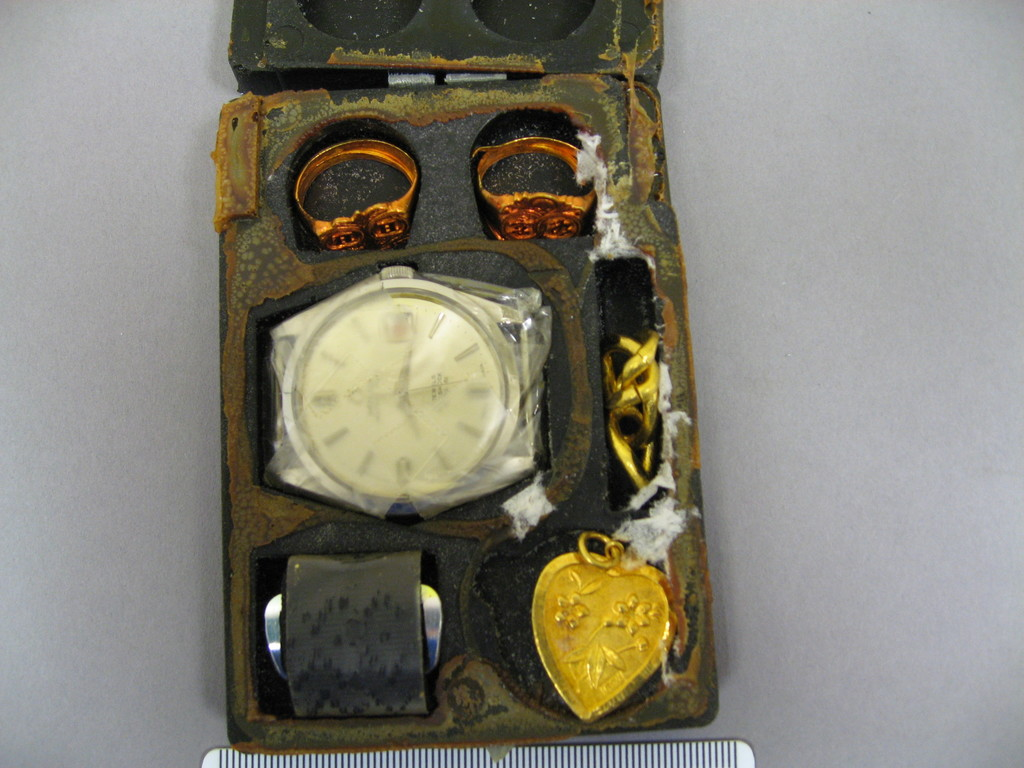watch: (263, 264, 540, 514)
